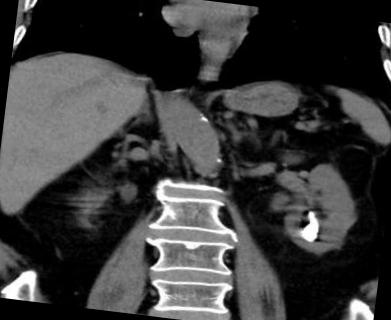Tas_Var: (294, 207, 330, 246)
